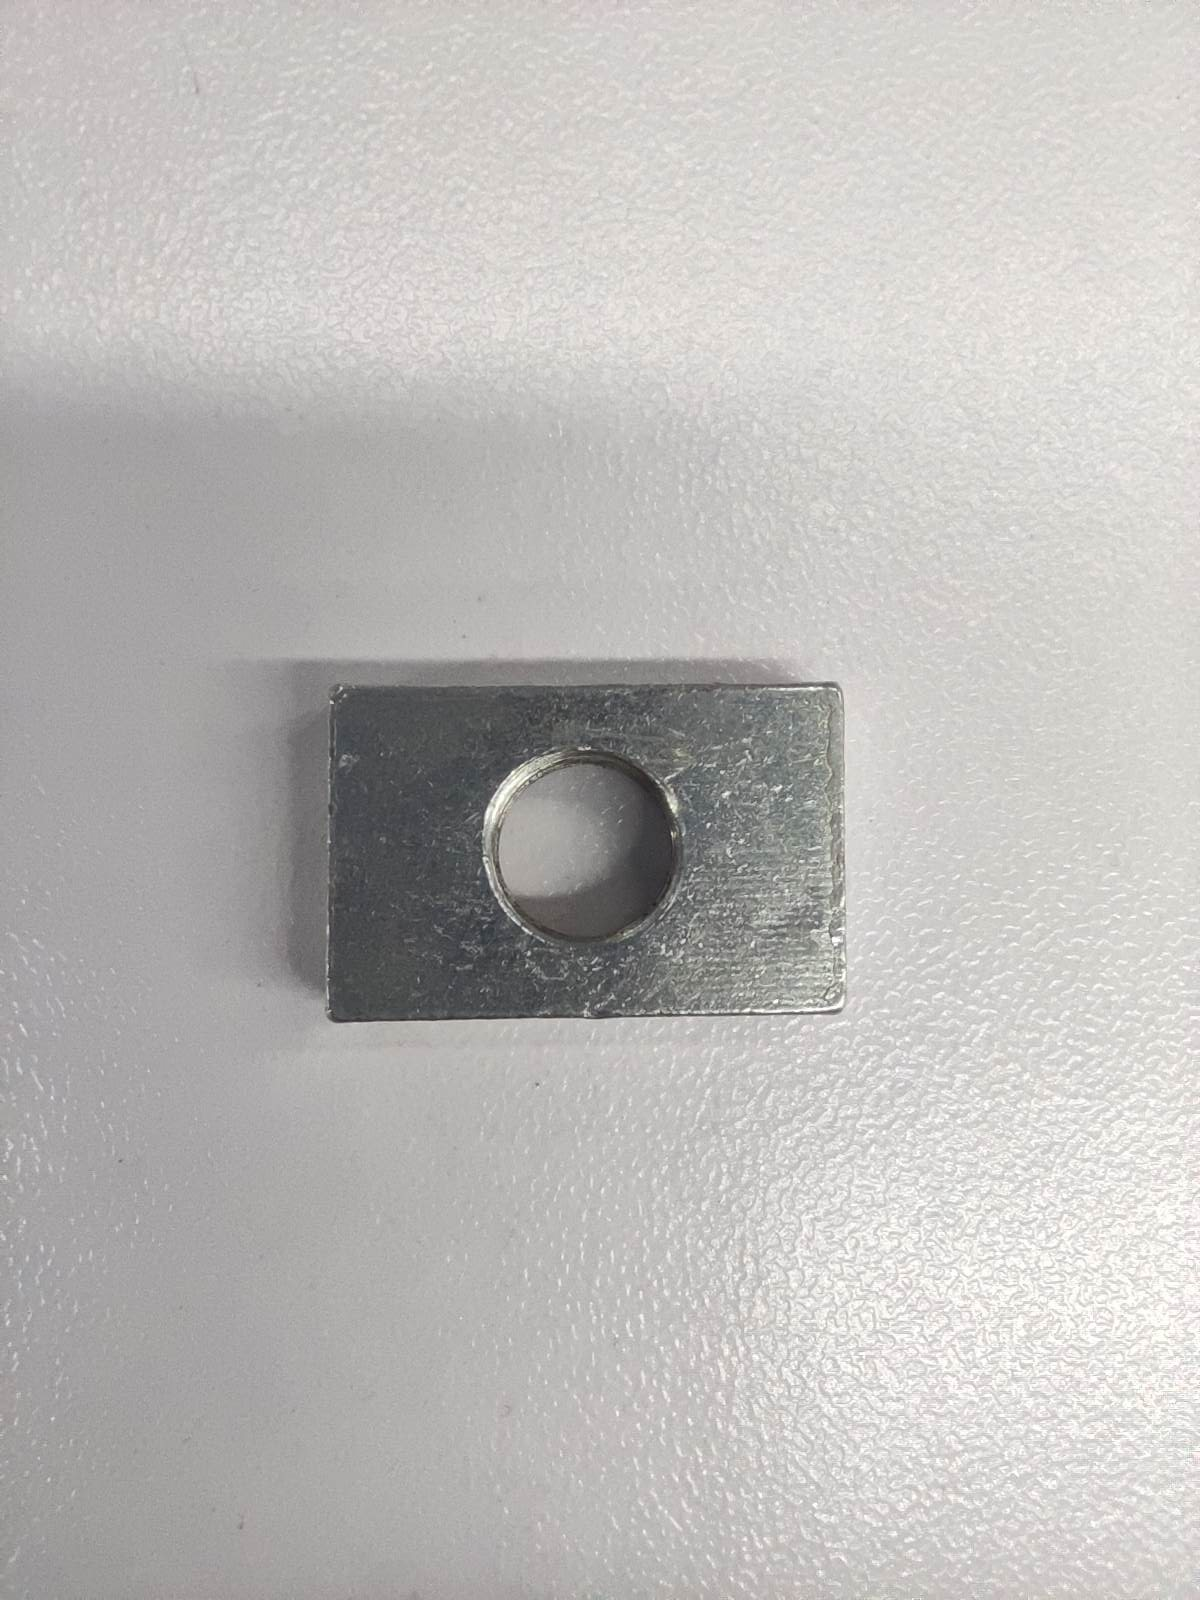T型块2: (324, 679, 846, 1026)
